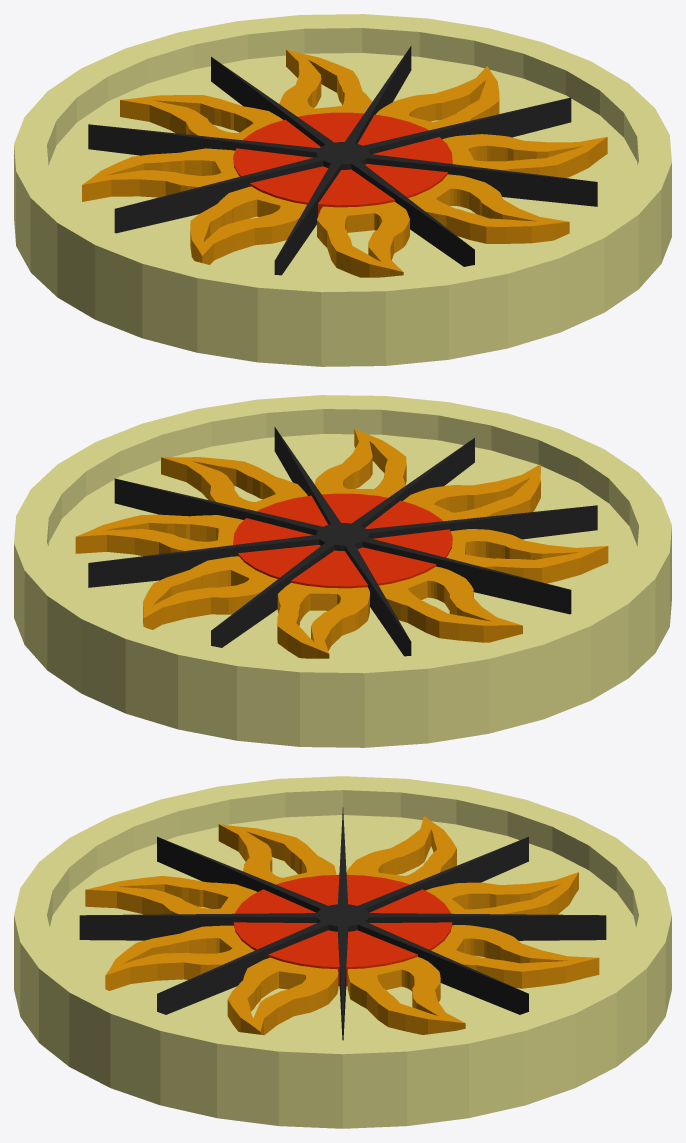
File: sol.glb
3 views of the same model, one above another, from view 1: azimuth 30°, elevation 25°; view 2: azimuth 150°, elevation 25°; view 3: azimuth 270°, elevation 25° (orthographic).
Parts seen in each view (by area): view 1: CoinBase, Circle, Circle.001, Circle.006, Circle.009, Circle.004, Circle.008, Circle.007, Circle.005, Circle.002, Circle.003; view 2: CoinBase, Circle, Circle.001, Circle.004, Circle.003, Circle.009, Circle.002, Circle.005, Circle.007, Circle.008, Circle.006; view 3: CoinBase, Circle, Circle.001, Circle.003, Circle.007, Circle.002, Circle.006, Circle.008, Circle.005, Circle.009, Circle.004.
Boxes of the visible parts, box(x1,y1,x2,y2) form: CoinBase: box(14, 14, 671, 366); Circle: box(88, 46, 597, 275); Circle.001: box(233, 112, 452, 216); Circle.006: box(408, 174, 569, 243); Circle.009: box(190, 186, 306, 264); Circle.004: box(82, 148, 239, 201); Circle.008: box(317, 202, 409, 277); Circle.007: box(442, 134, 607, 177); Circle.005: box(120, 95, 282, 140); Circle.002: box(376, 66, 499, 130); Circle.003: box(279, 49, 372, 116); CoinBase: box(14, 395, 671, 747); Circle: box(88, 427, 597, 656); Circle.001: box(233, 493, 452, 588); Circle.004: box(379, 566, 522, 642); Circle.003: box(143, 556, 277, 629); Circle.009: box(446, 529, 608, 583); Circle.002: box(75, 514, 243, 556); Circle.005: box(277, 583, 369, 658); Circle.007: box(161, 457, 307, 511); Circle.008: box(403, 464, 540, 521); Circle.006: box(314, 428, 406, 497); CoinBase: box(14, 776, 671, 1128); Circle: box(79, 807, 606, 1040); Circle.001: box(233, 874, 452, 986); Circle.003: box(431, 925, 599, 988); Circle.007: box(227, 957, 338, 1035); Circle.002: box(347, 957, 465, 1034); Circle.006: box(105, 925, 254, 990); Circle.008: box(85, 876, 257, 914); Circle.005: box(425, 872, 578, 914); Circle.009: box(218, 824, 336, 884); Circle.004: box(346, 816, 456, 884).
Bounding box in the file's own units: 610 × 76.2 × 610.
